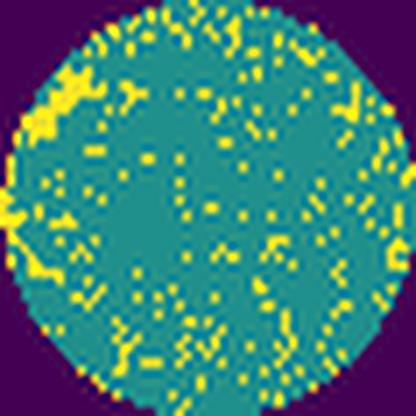Loc: (17, 62, 109, 148), (0, 188, 68, 284)
